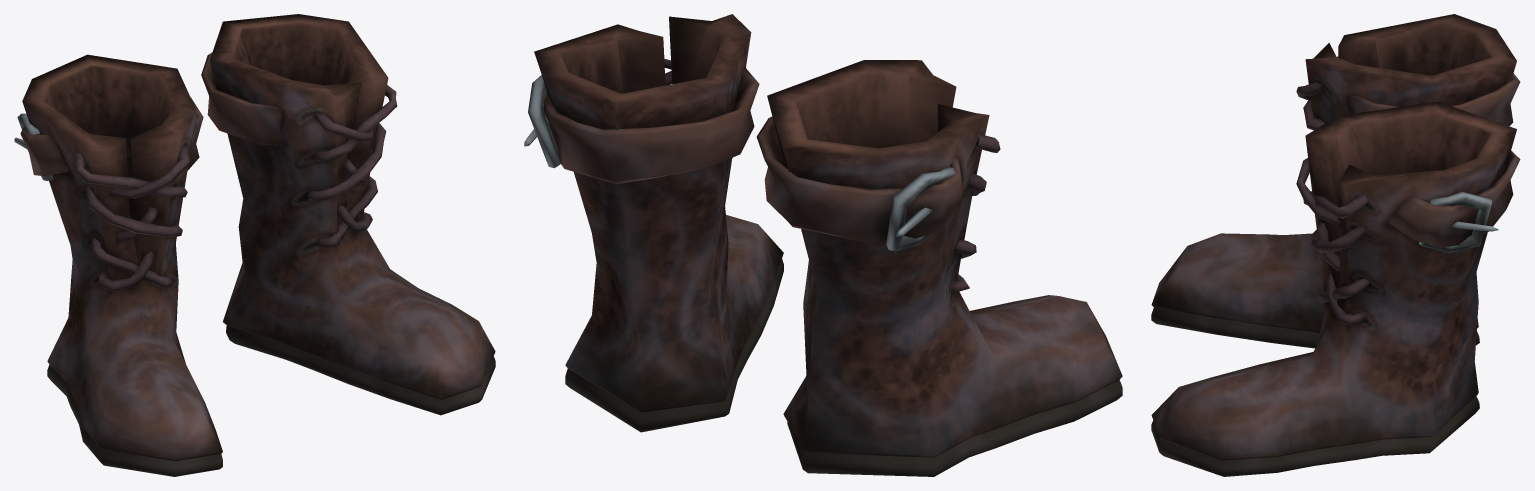
The model's file is shuuuues.fbx.
3 renders of one model, left to right at view 1: azimuth 30°, elevation 25°; view 2: azimuth 150°, elevation 25°; view 3: azimuth 270°, elevation 25°, orthographic. The views are drawn at different scales.
Visible parts, largest first — view 1: shuue_L, shuue_R; view 2: shuue_R, shuue_L; view 3: shuue_L, shuue_R.
Part boxes in pixels (bbox=[...]): shuue_L: bbox=[201, 14, 495, 415]; shuue_R: bbox=[14, 54, 222, 476]; shuue_R: bbox=[756, 60, 1122, 476]; shuue_L: bbox=[524, 14, 783, 432]; shuue_L: bbox=[1151, 101, 1520, 476]; shuue_R: bbox=[1151, 14, 1520, 348].
Bounding box in the file's own units: 65.19 × 43.91 × 51.26.
